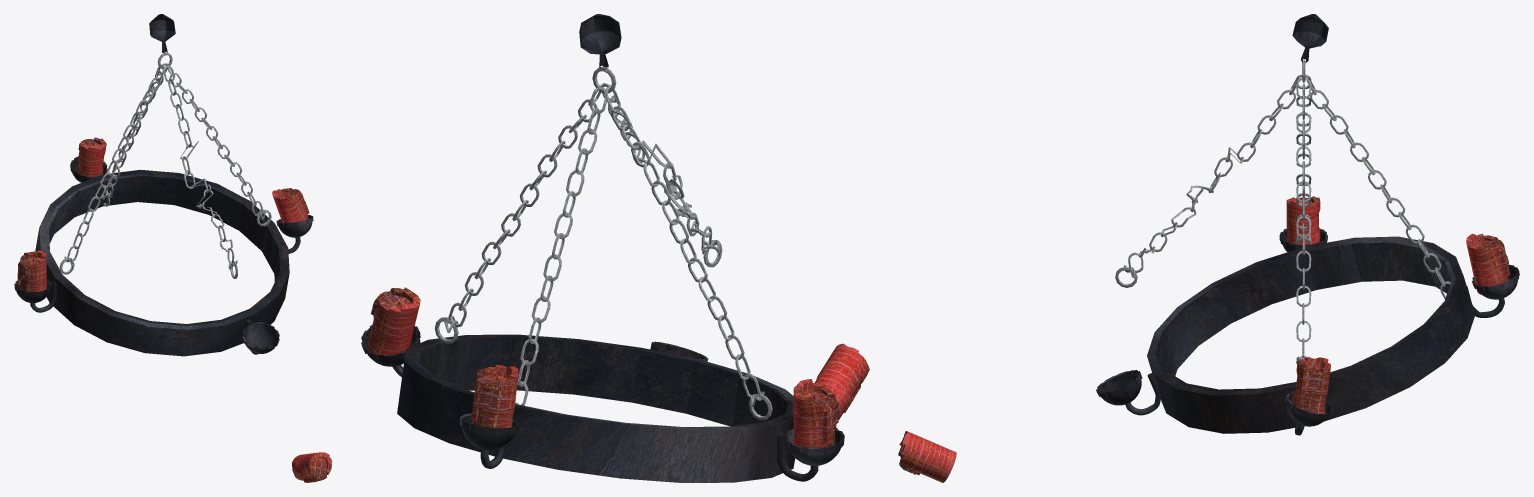
File: Lampara_rota.fbx
The picture shows the model from 3 angles, left to right: view 1: azimuth 30°, elevation 25°; view 2: azimuth 150°, elevation 25°; view 3: azimuth 270°, elevation 25°; orthographic projection. The views are drawn at different scales.
Parts seen in each view (by area): view 1: Base_lamp, Anillas, Vela2, Vela3, Vela1, Soporte_velas4, Vela4, Soporte_velas3, Top_Lamp, Soporte_velas2; view 2: Base_lamp, Anillas, Vela1, Vela2, Vela4, Vela3, Soporte_velas3, Soporte_velas5, Top_Lamp, Soporte_velas2; view 3: Base_lamp, Anillas, Vela3, Vela4, Vela1, Soporte_velas4, Vela2, Top_Lamp, Soporte_velas5, Soporte_velas2.
Boxes of the visible parts, x1=… form: Base_lamp: x1=35, y1=169, x2=289, y2=356; Anillas: x1=59, y1=52, x2=271, y2=278; Vela2: x1=17, y1=250, x2=46, y2=291; Vela3: x1=292, y1=452, x2=332, y2=482; Vela1: x1=272, y1=188, x2=309, y2=223; Soporte_velas4: x1=242, y1=319, x2=279, y2=354; Vela4: x1=76, y1=137, x2=106, y2=176; Soporte_velas3: x1=14, y1=279, x2=56, y2=312; Top_Lamp: x1=149, y1=14, x2=175, y2=53; Soporte_velas2: x1=276, y1=215, x2=313, y2=253; Base_lamp: x1=397, y1=334, x2=795, y2=482; Anillas: x1=434, y1=67, x2=772, y2=420; Vela1: x1=367, y1=287, x2=420, y2=355; Vela2: x1=793, y1=379, x2=838, y2=448; Vela4: x1=471, y1=365, x2=518, y2=427; Vela3: x1=814, y1=343, x2=869, y2=419; Soporte_velas3: x1=777, y1=428, x2=844, y2=481; Soporte_velas5: x1=460, y1=413, x2=518, y2=468; Top_Lamp: x1=579, y1=14, x2=621, y2=69; Soporte_velas2: x1=361, y1=325, x2=420, y2=377; Base_lamp: x1=1147, y1=236, x2=1474, y2=433; Anillas: x1=1115, y1=60, x2=1450, y2=363; Vela3: x1=898, y1=431, x2=956, y2=482; Vela4: x1=1466, y1=233, x2=1510, y2=294; Vela1: x1=1292, y1=357, x2=1330, y2=413; Soporte_velas4: x1=1096, y1=370, x2=1160, y2=415; Vela2: x1=1286, y1=196, x2=1320, y2=244; Top_Lamp: x1=1292, y1=14, x2=1328, y2=62; Soporte_velas5: x1=1467, y1=264, x2=1519, y2=317; Soporte_velas2: x1=1285, y1=391, x2=1332, y2=435.
Size of the model in its own units: 4.04 by 4.69 by 5.67.
